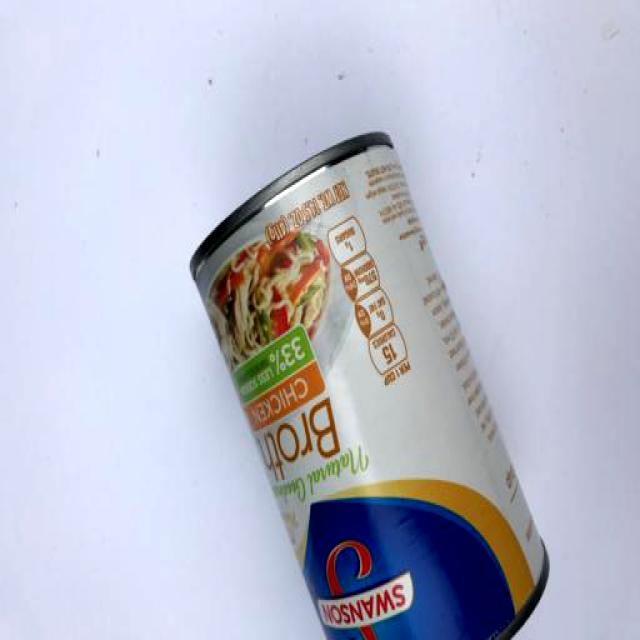Metal: (168, 108, 558, 640)
